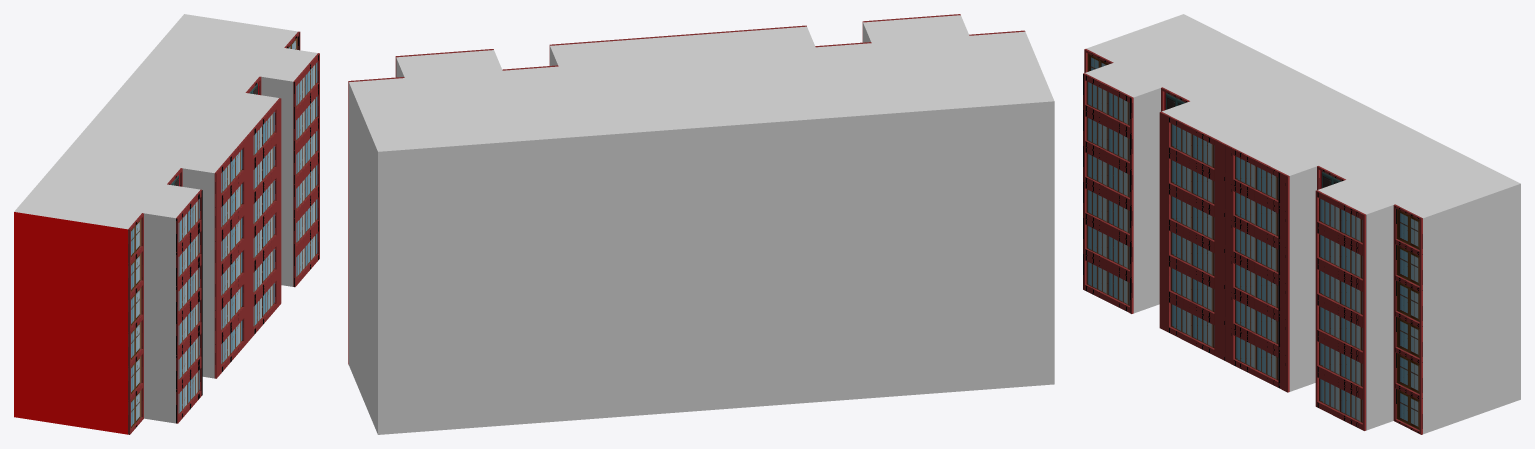
The model's file is liuxueshenggongyu.fbx.
3 renders of one model, left to right at view 1: azimuth 30°, elevation 25°; view 2: azimuth 150°, elevation 25°; view 3: azimuth 270°, elevation 25°, orthographic. The views are drawn at different scales.
Parts seen in each view (by area): view 1: CityEngineMaterial_m, CityEngineMaterial_1_m, CityEngineMaterial_4_m, CityEngineMaterial_5_m, CityEngineMaterial_2_m; view 2: CityEngineMaterial_m, CityEngineMaterial_4_m; view 3: CityEngineMaterial_m, CityEngineMaterial_4_m, CityEngineMaterial_5_m, CityEngineMaterial_2_m, CityEngineMaterial_3_m.
Part boxes in pixels (x1,y1,x2,y2): CityEngineMaterial_m: [14, 14, 317, 423]; CityEngineMaterial_1_m: [14, 212, 127, 434]; CityEngineMaterial_4_m: [128, 31, 319, 434]; CityEngineMaterial_5_m: [178, 62, 317, 414]; CityEngineMaterial_2_m: [131, 38, 297, 428]; CityEngineMaterial_m: [349, 15, 1054, 434]; CityEngineMaterial_4_m: [348, 14, 1025, 364]; CityEngineMaterial_m: [1085, 14, 1520, 434]; CityEngineMaterial_4_m: [1083, 49, 1422, 434]; CityEngineMaterial_5_m: [1086, 81, 1362, 422]; CityEngineMaterial_2_m: [1087, 53, 1419, 429]; CityEngineMaterial_3_m: [1164, 92, 1341, 188].
Size of the model in its own units: 44.76 by 22 by 40.4.
